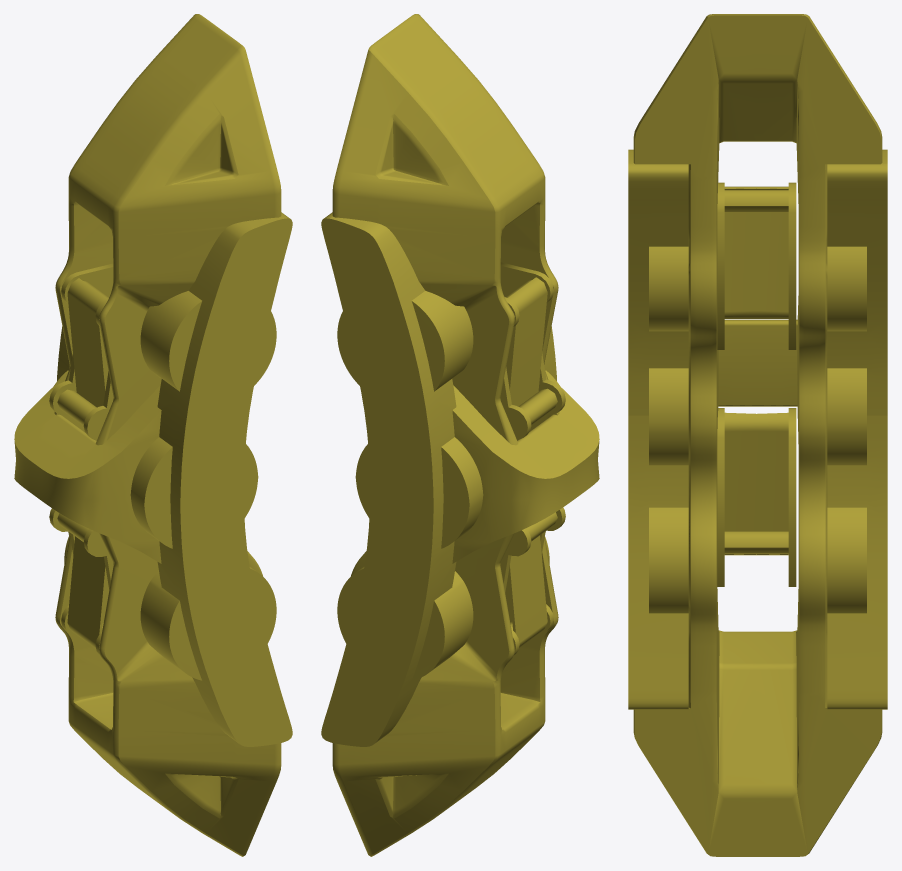
File: Calliper_fl.fbx
3 renders of one model, left to right at view 1: azimuth 30°, elevation 25°; view 2: azimuth 150°, elevation 25°; view 3: azimuth 270°, elevation 25°, orthographic. The views are drawn at different scales.
Parts seen in each view (by area): view 1: Calliper_fl; view 2: Calliper_fl; view 3: Calliper_fl.
Part boxes in pixels (<box>): Calliper_fl: <box>14,14,292,856</box>; Calliper_fl: <box>321,14,599,856</box>; Calliper_fl: <box>628,14,887,856</box>.
Size of the model in its own units: 8.91 by 34.73 by 9.69.
